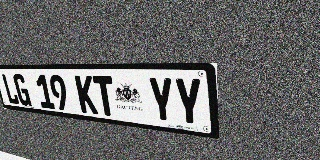1: (34, 74, 55, 109)
9: (48, 75, 70, 111)
G: (12, 74, 32, 106)
K: (74, 75, 98, 114)
L: (1, 74, 20, 105)
T: (92, 76, 117, 117)
Y: (173, 77, 204, 127), (147, 77, 176, 124)
